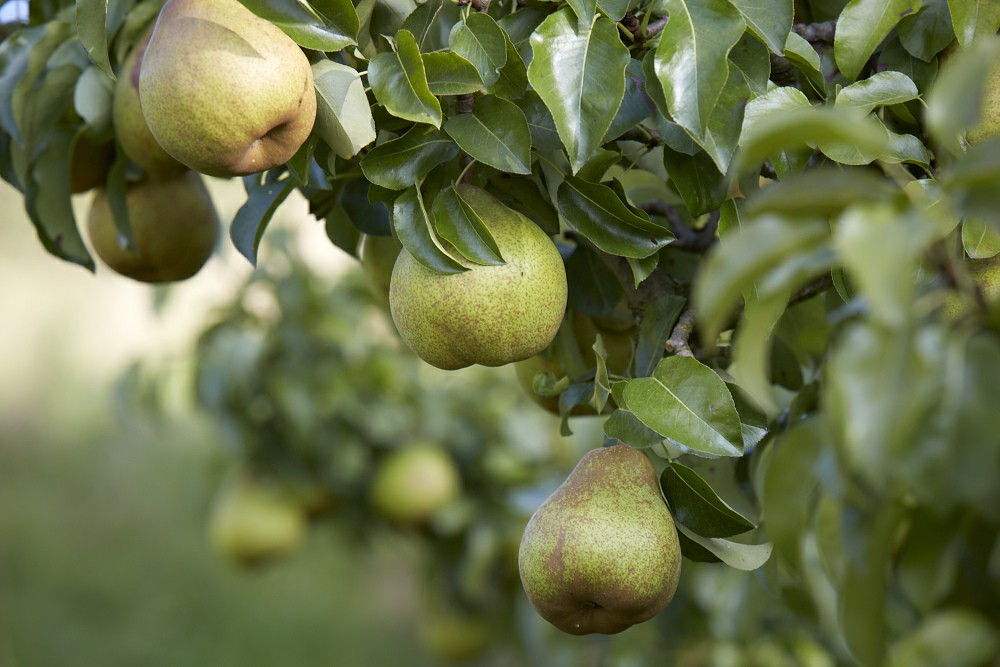pear: (385, 184, 569, 370), (139, 1, 314, 177), (517, 443, 679, 633), (88, 150, 224, 282), (112, 1, 188, 177)
